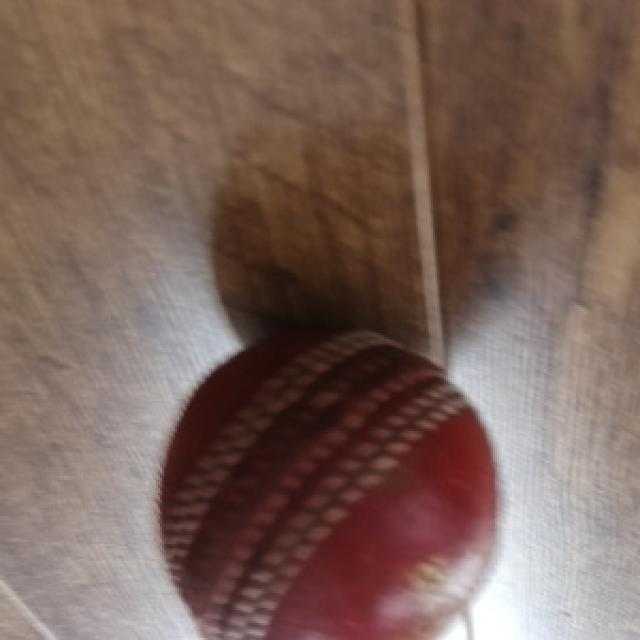ball: (158, 331, 503, 640)
